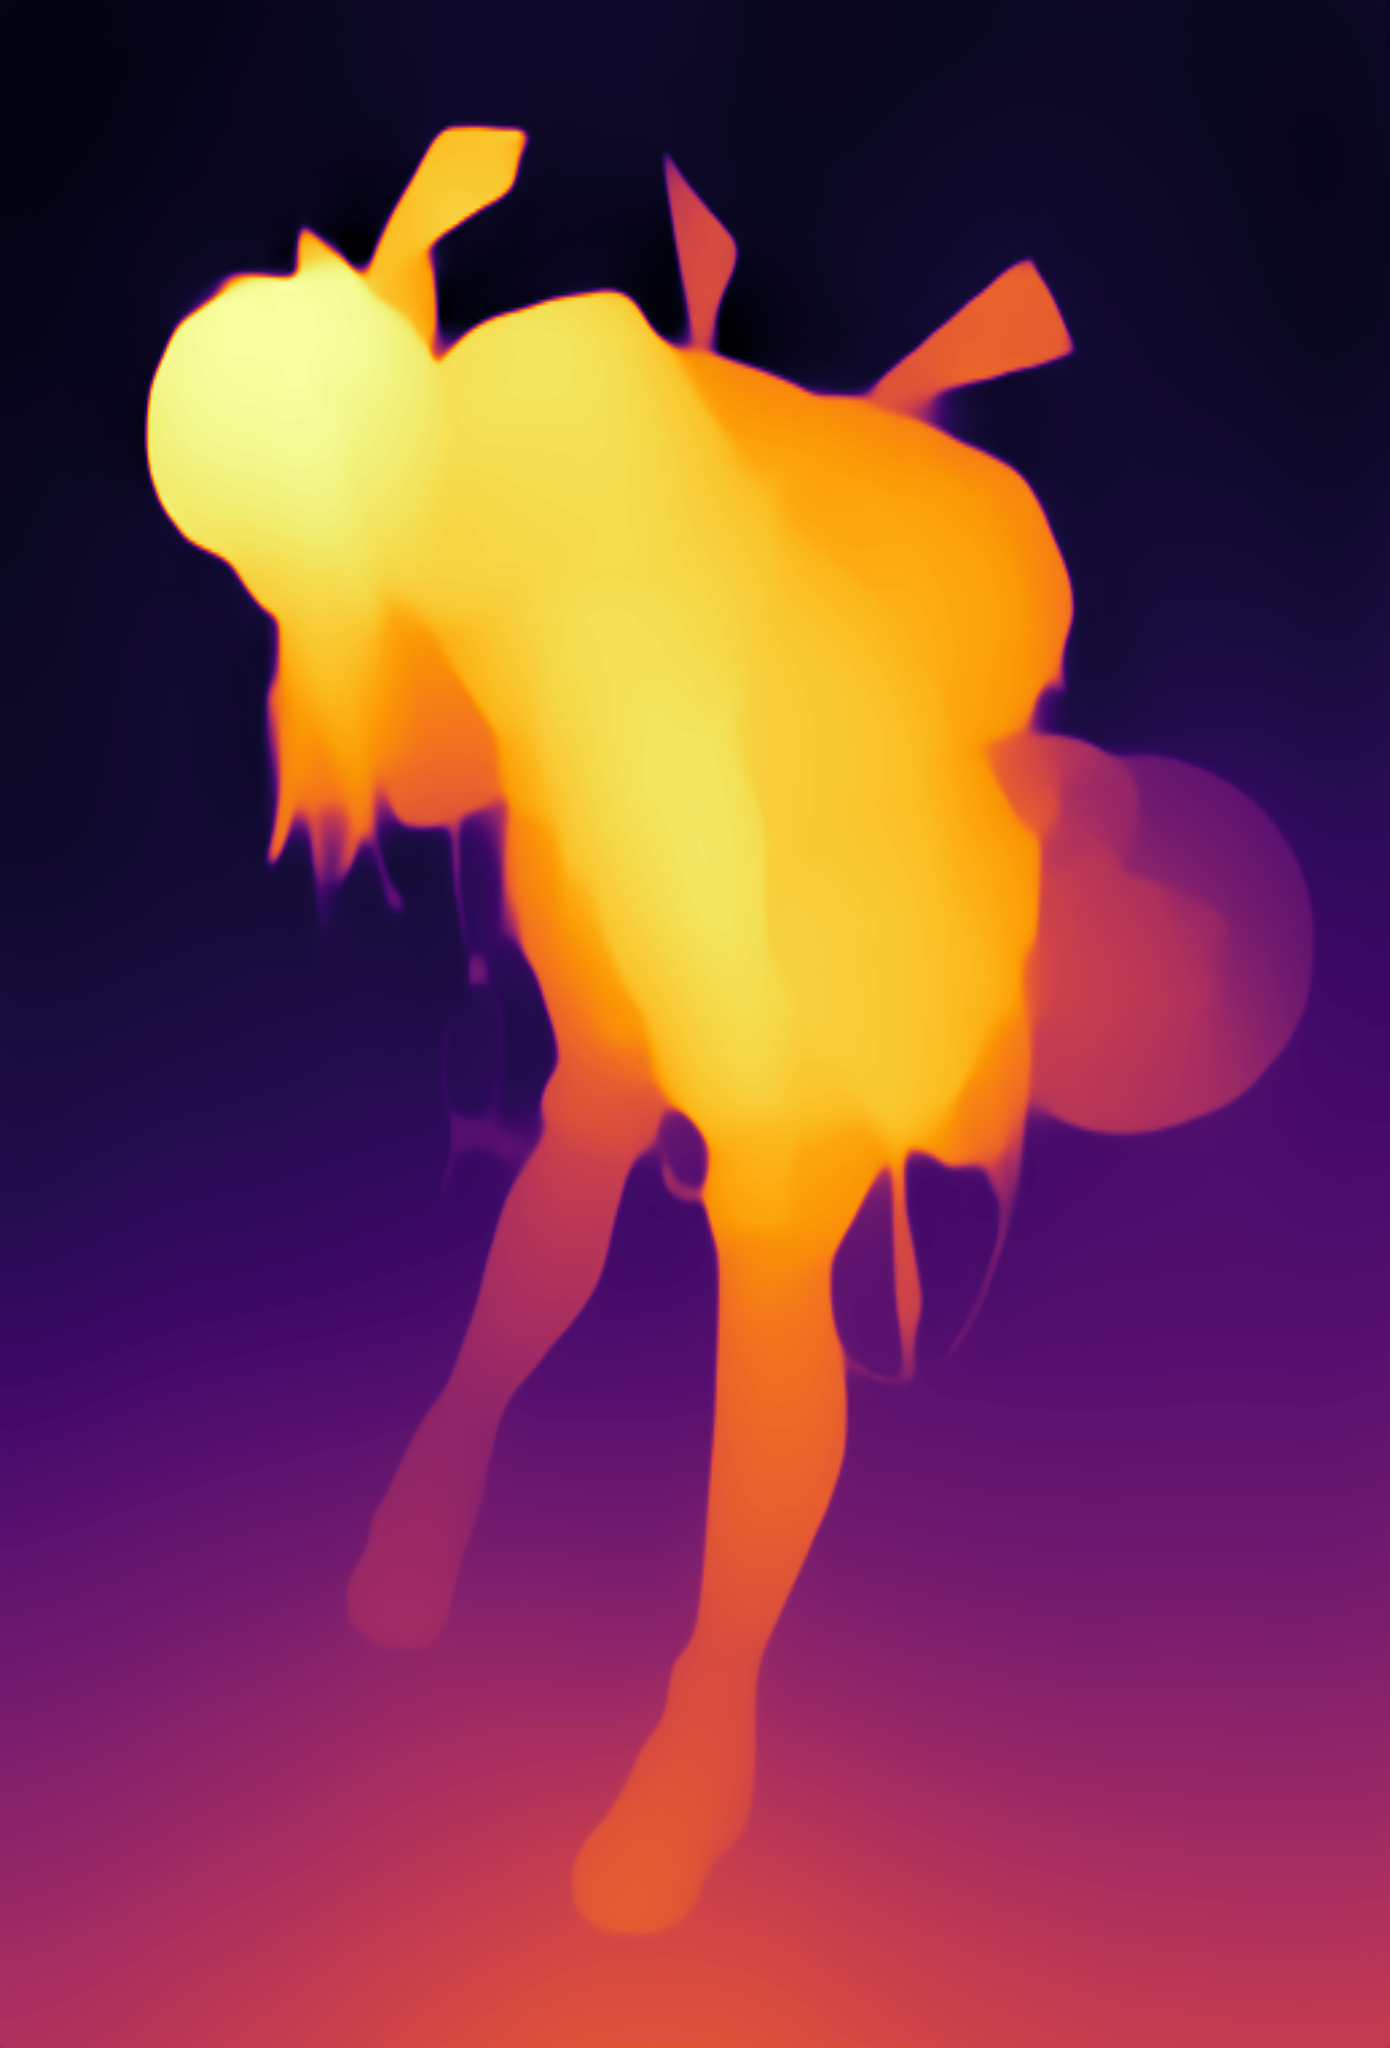p: (105, 192, 1295, 1969)
